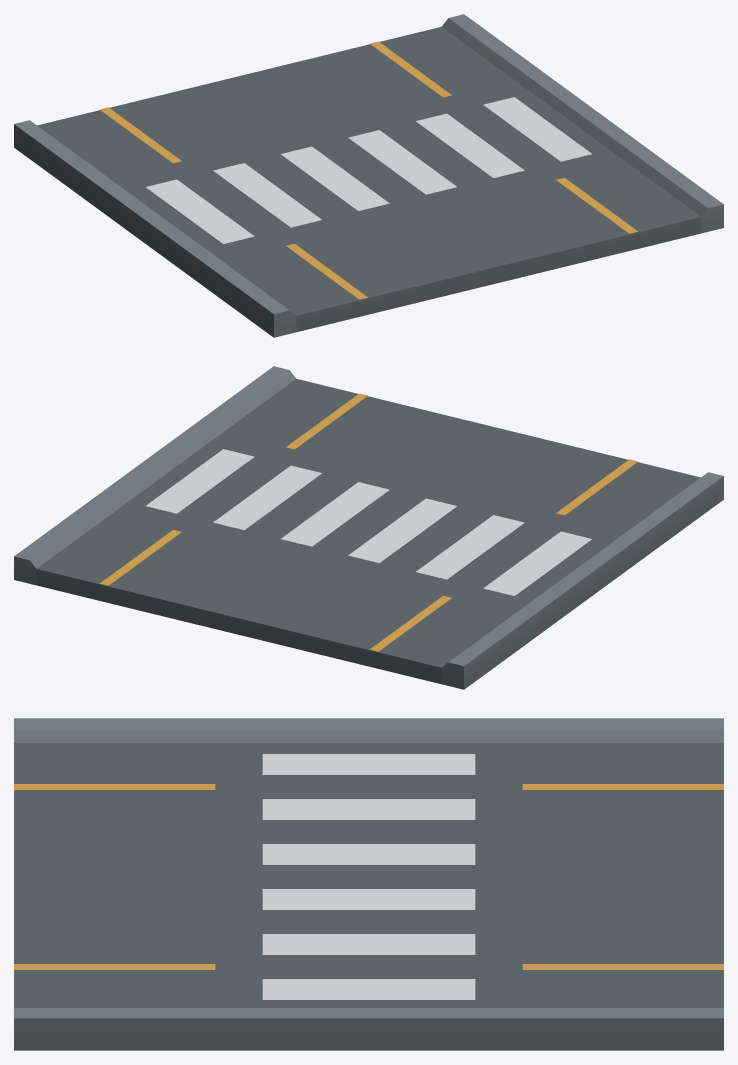
File: road-straight-crossing.glb
3 views of the same model, one above another, from view 1: azimuth 30°, elevation 25°; view 2: azimuth 150°, elevation 25°; view 3: azimuth 270°, elevation 25° (orthographic). The views are drawn at different scales.
Parts seen in each view (by area): view 1: road_straight_crossing; view 2: road_straight_crossing; view 3: road_straight_crossing.
Boxes of the visible parts, box(x1,y1,x2,y2) form: road_straight_crossing: box(14, 14, 723, 337); road_straight_crossing: box(14, 366, 723, 689); road_straight_crossing: box(14, 718, 723, 1050).
Size of the model in its own units: 2 by 0.1001 by 2.
Materials: 1 (1 with a texture image).
